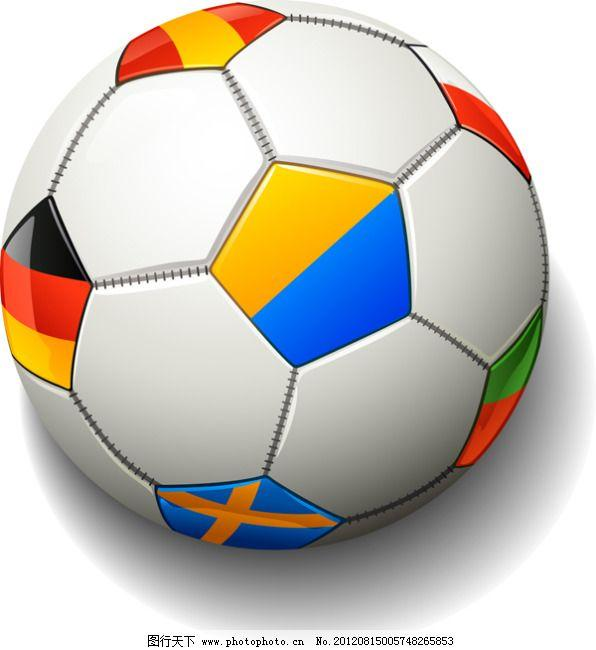football: (7, 3, 538, 558)
